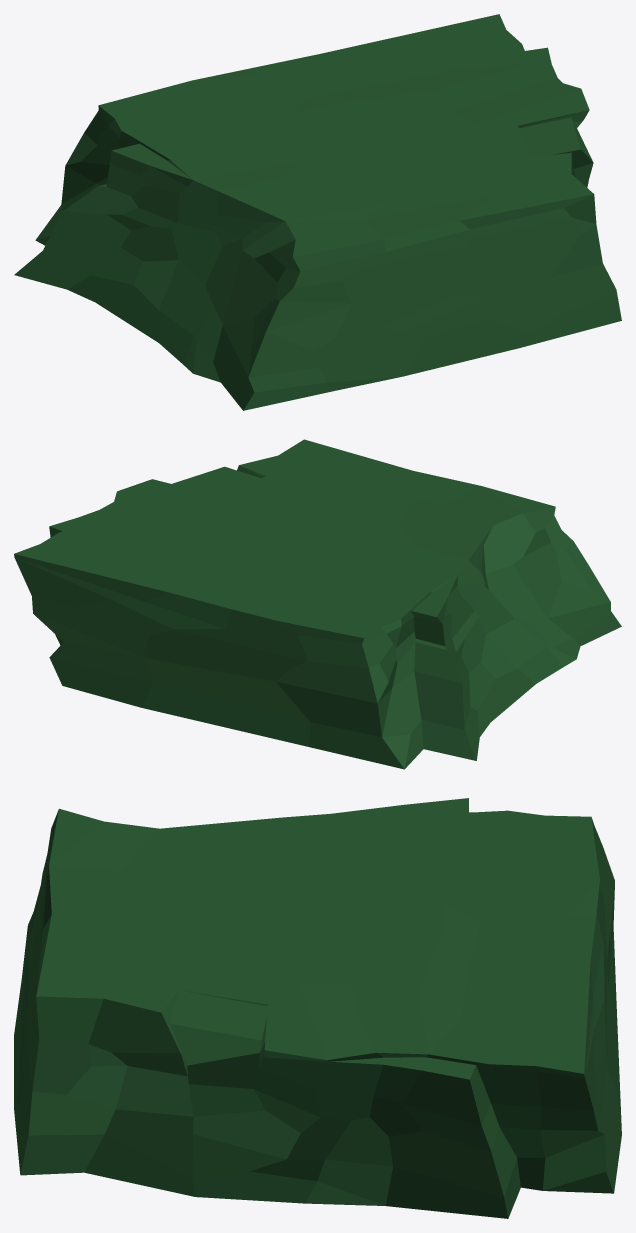
The model's file is FantasyGrassTerrainGround.fbx.
3 views of the same model, one above another, from view 1: azimuth 30°, elevation 25°; view 2: azimuth 150°, elevation 25°; view 3: azimuth 270°, elevation 25° (orthographic). The views are drawn at different scales.
Visible parts, largest first — view 1: Cliff_U.002; view 2: Cliff_U.002; view 3: Cliff_U.002.
Part boxes in pixels (box(x1,y1,x2,y2)): Cliff_U.002: box(14, 14, 621, 410); Cliff_U.002: box(14, 439, 621, 769); Cliff_U.002: box(14, 798, 621, 1218).
Size of the model in its own units: 17697 by 4305 by 14132.
